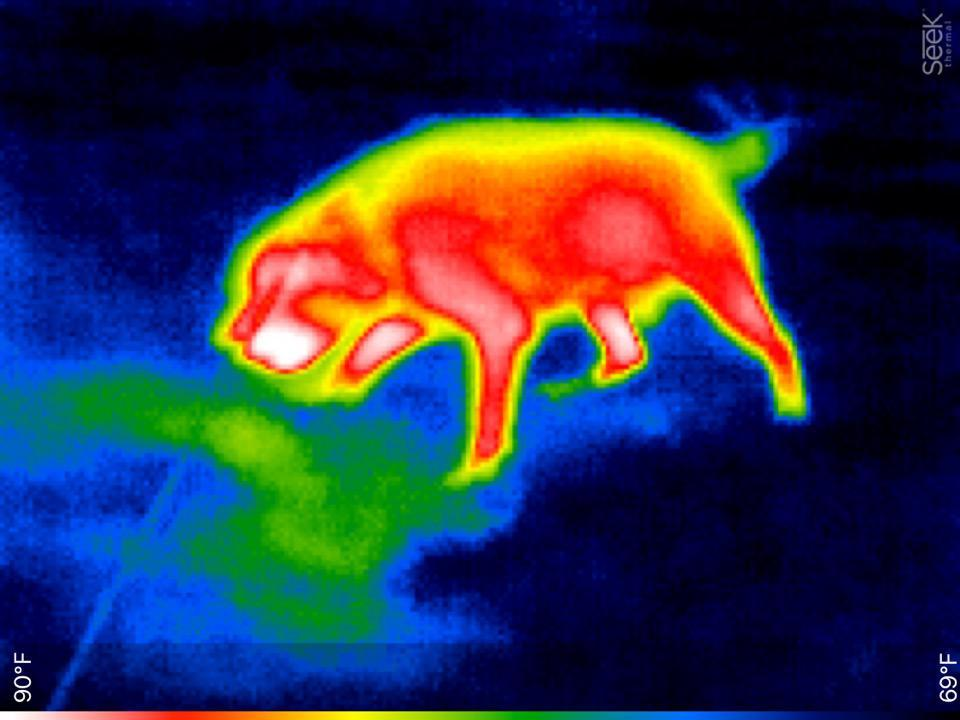dog: (210, 99, 819, 479)
